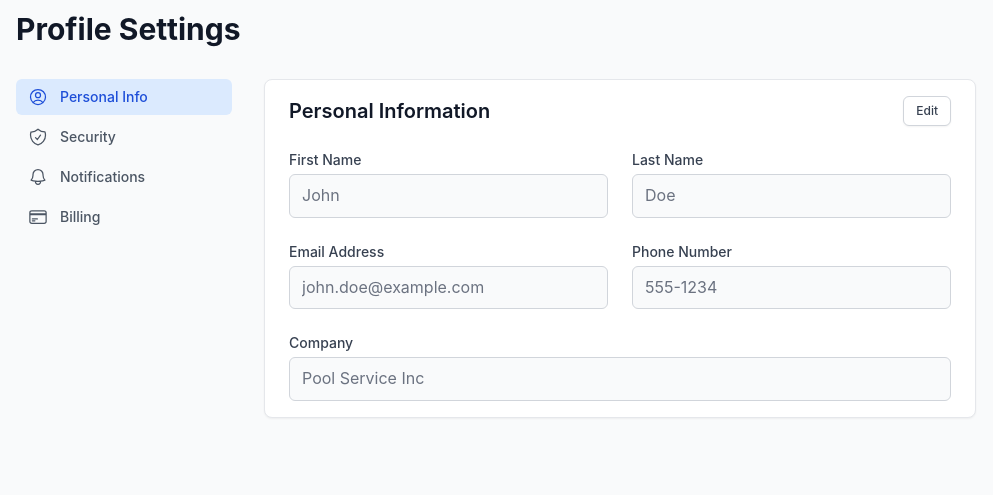
ProfilePage › Personal Info Tab › should toggle edit mode
The image size is (993, 495).
Click the button "Edit". click: click(927, 111)
box: [903, 96, 951, 126]
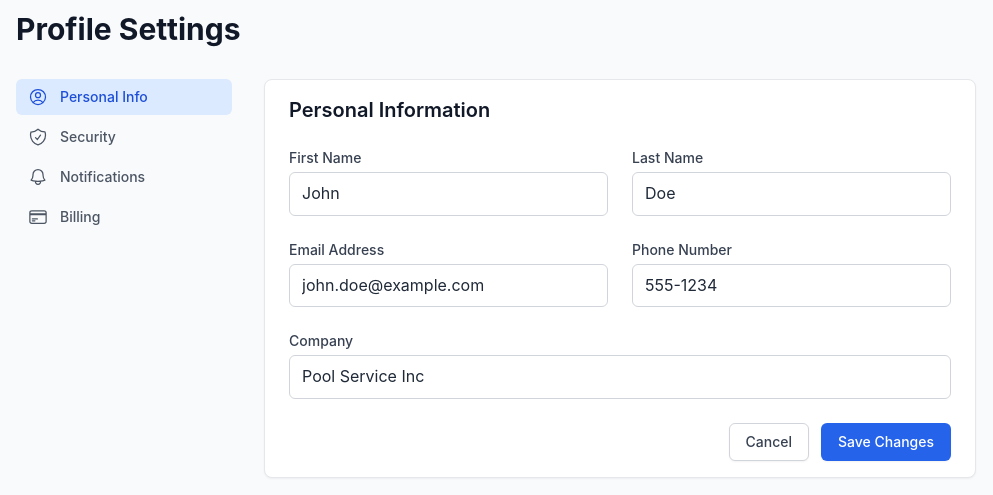
Expected: the button "Save Changes" is shown, [821, 423, 951, 461]
Expected: the button "Cancel" is shown, [728, 423, 809, 461]
